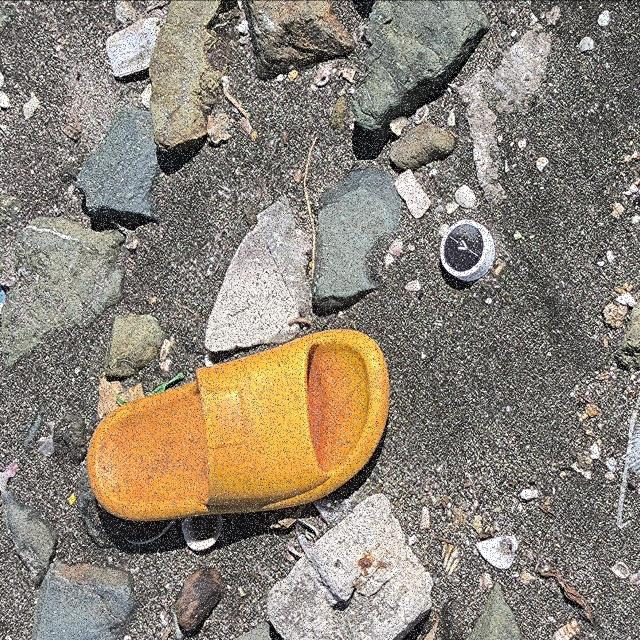plastic_waste: (439, 218, 498, 283)
rubber_waste: (85, 328, 393, 524)
